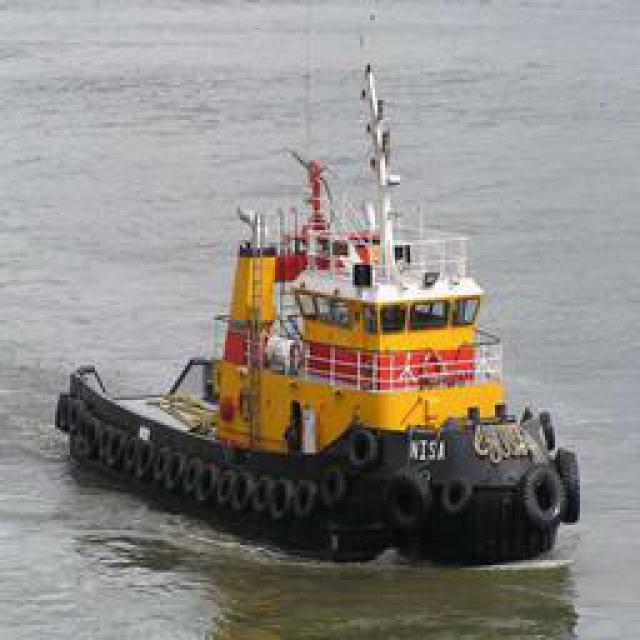Ship: (39, 52, 589, 562)
